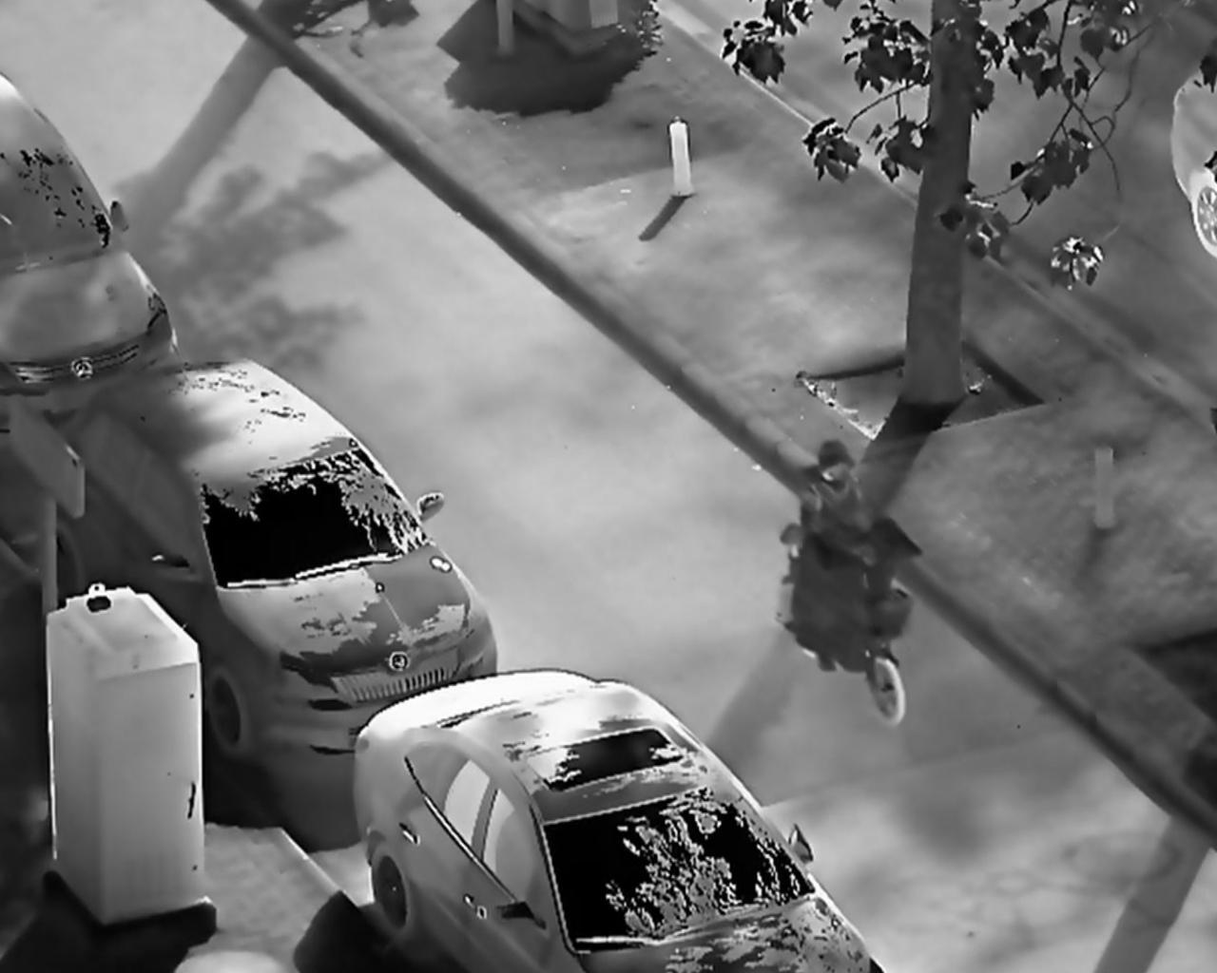person: (784, 437, 908, 590)
